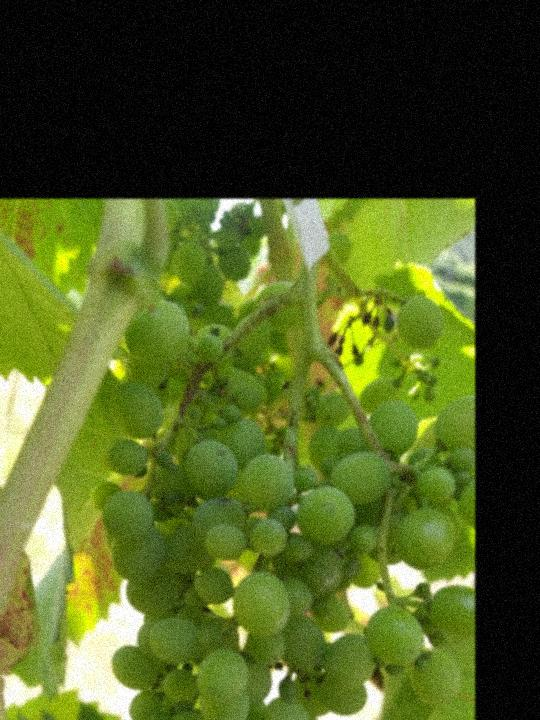grape: (50, 281, 471, 720)
